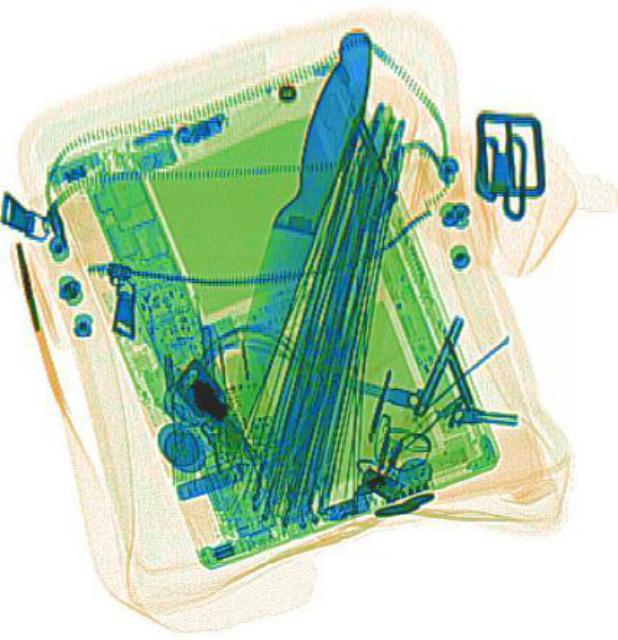Knife: (214, 19, 382, 431)
